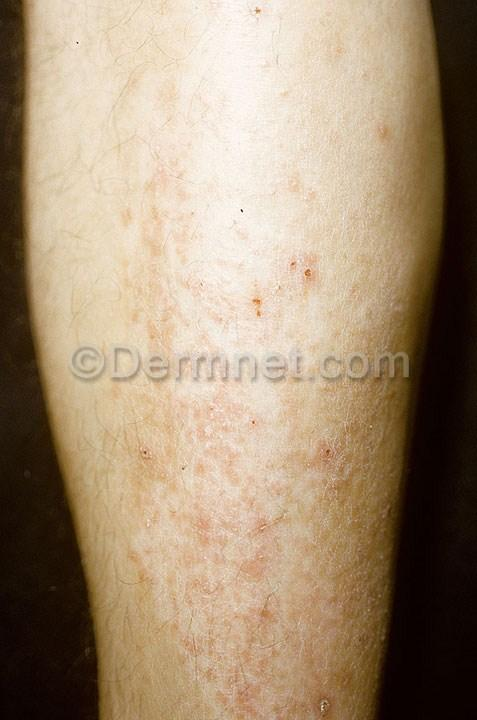Eczema: (63, 392, 375, 720), (94, 84, 340, 344), (321, 66, 425, 160)
